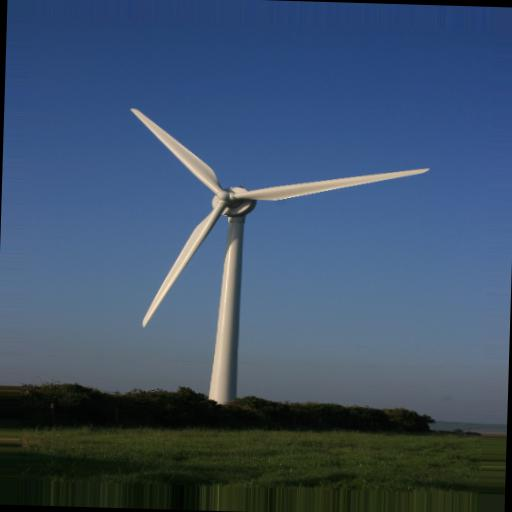wind turbine: (130, 104, 431, 399)
